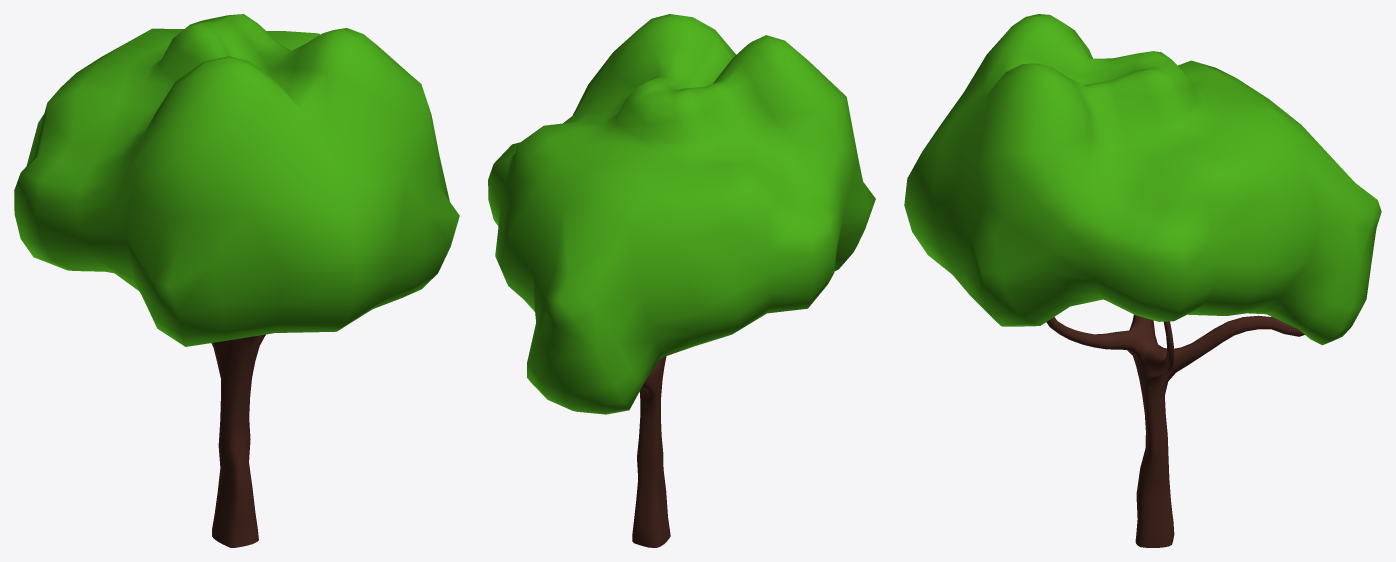
The model's file is Tree.fbx.
3 renders of one model, left to right at view 1: azimuth 30°, elevation 25°; view 2: azimuth 150°, elevation 25°; view 3: azimuth 270°, elevation 25°, orthographic. The views are drawn at different scales.
Visible parts, largest first — view 1: Tree01, Tree00; view 2: Tree01, Tree00; view 3: Tree01, Tree00.
Part boxes in pixels (box(x1,y1,x2,y2)): Tree01: box(14, 14, 459, 346); Tree00: box(211, 334, 265, 547); Tree01: box(488, 14, 875, 414); Tree00: box(632, 356, 670, 547); Tree01: box(904, 14, 1381, 345); Tree00: box(1046, 314, 1304, 547).
Size of the model in its own units: 363 by 503 by 442.
